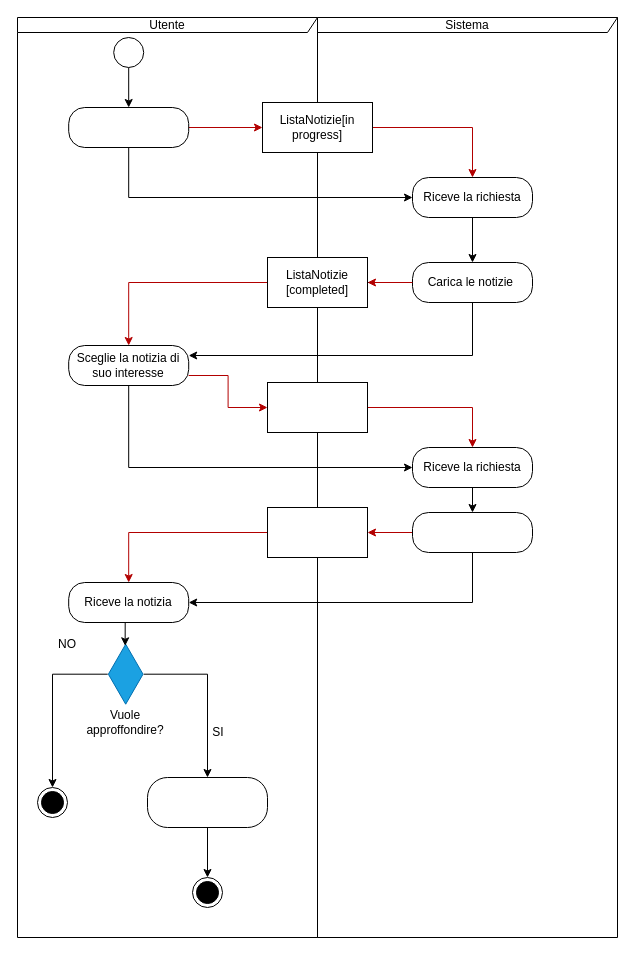
Some shapes in this 635 by 955 pixel diagram are drawn without their labels. Each missing label, with the centre of its shape:
Accede all'applicazione: the point at 128,127
AD1b_Alternativo: Approfondimento Notizia: the point at 207,802
Carica i dati: the point at 472,532
Notizia [completed]: the point at 317,532
Notizia [in progress]: the point at 317,407
